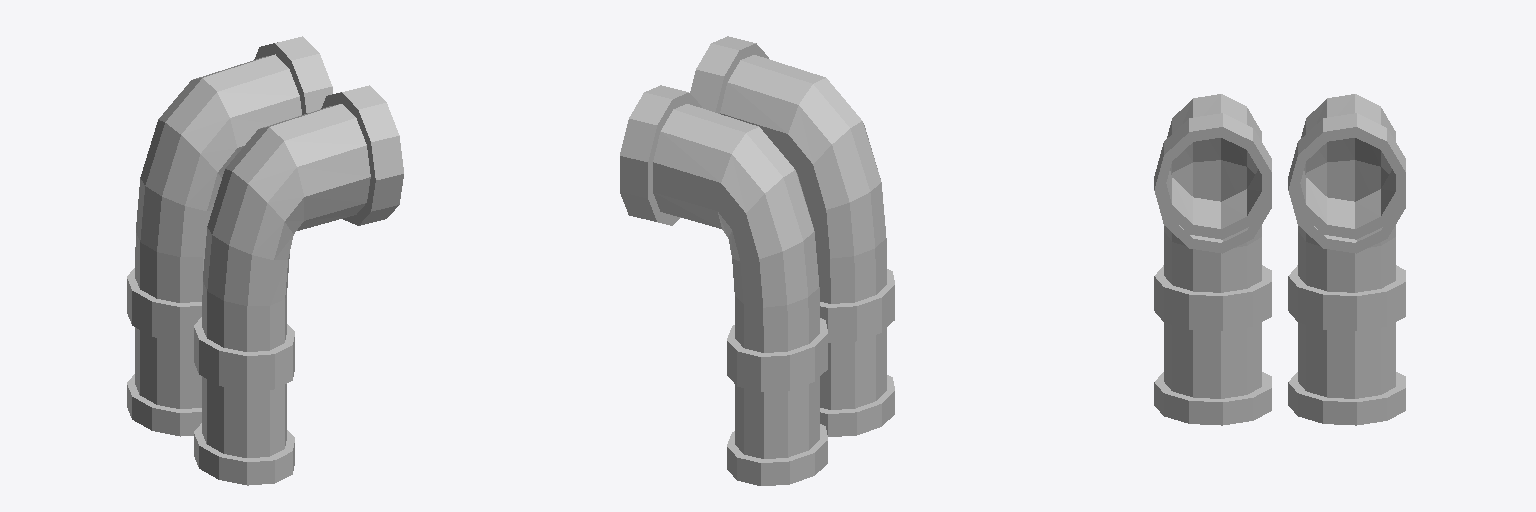
File: pipes.obj
3 views of the same model, side by side, from view 1: azimuth 30°, elevation 25°; view 2: azimuth 150°, elevation 25°; view 3: azimuth 270°, elevation 25° (orthographic).
Parts seen in each view (by area): view 1: pipes; view 2: pipes; view 3: pipes.
Part boxes in pixels (left/top/right/bottom): pipes: left=127, top=36, right=403, bottom=485; pipes: left=620, top=36, right=894, bottom=485; pipes: left=1154, top=94, right=1405, bottom=425.
Size of the model in its own units: 4.78 by 9.12 by 6.08.